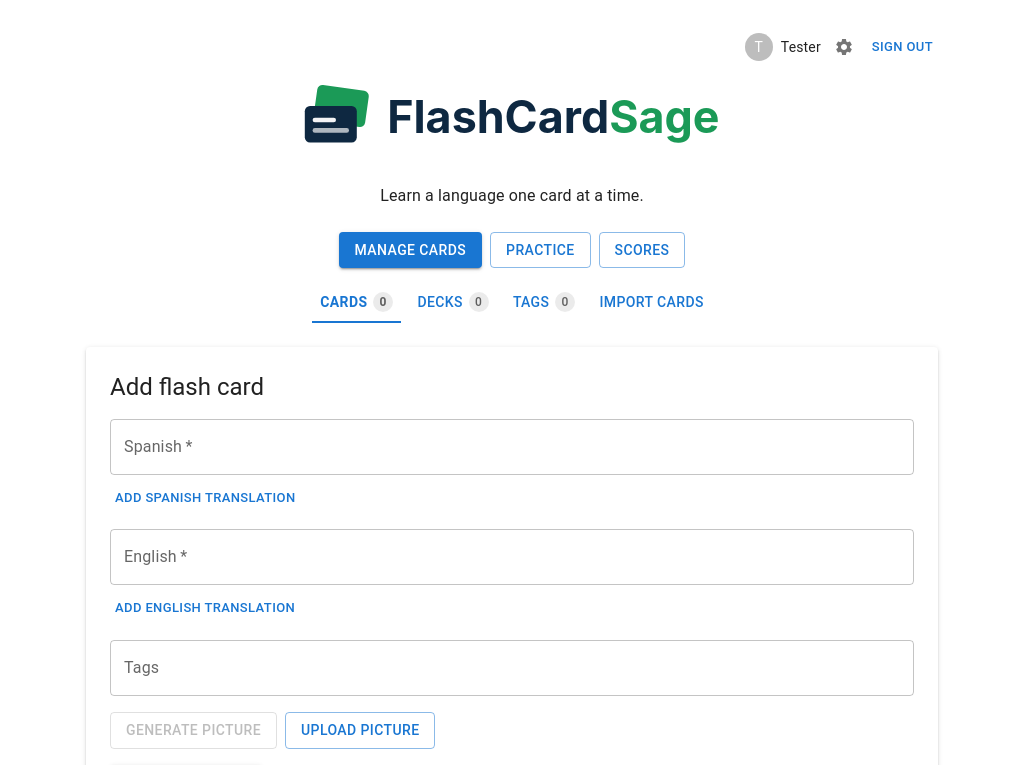
Test: modes › links to each mode and marks the current one
The width and height of the screenshot is (1024, 765).
Step 1. Click the link "Tags 0" → (544, 302), box [513,292,575,312]
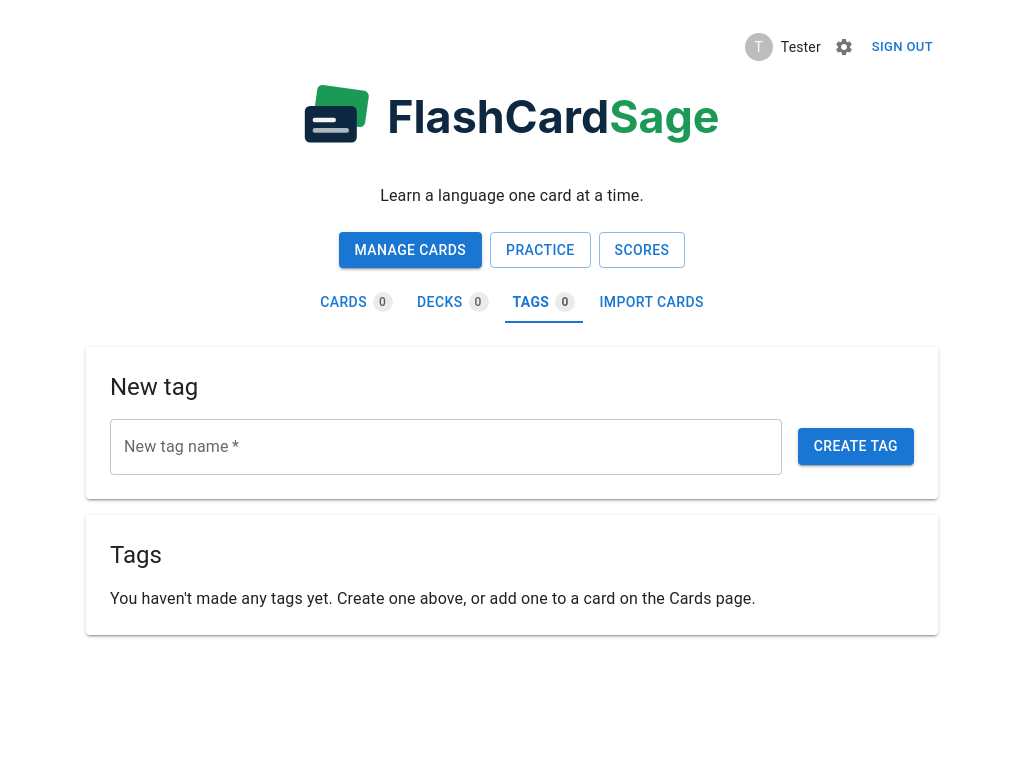
Expected: the heading "Tags" is shown, [110,541,162,569]
Step 2. Click the link "Practice" → (540, 250), box [490,232,591,268]
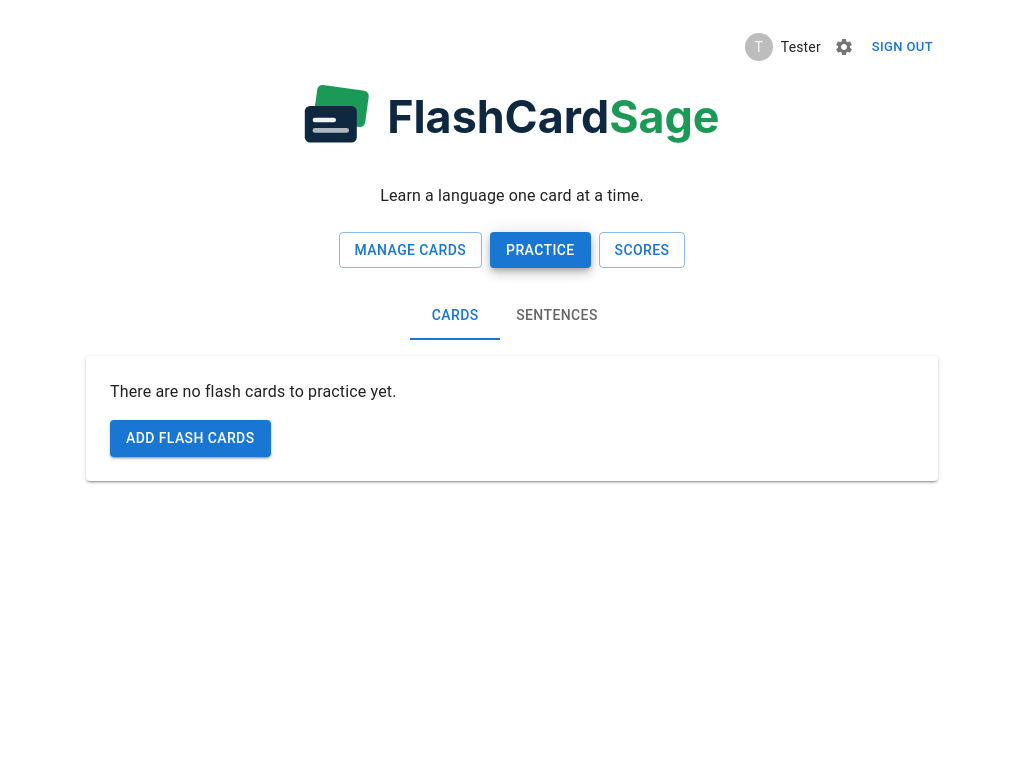
Expected: the text "There are no flash cards to practice yet." is shown, [110,380,397,404]
